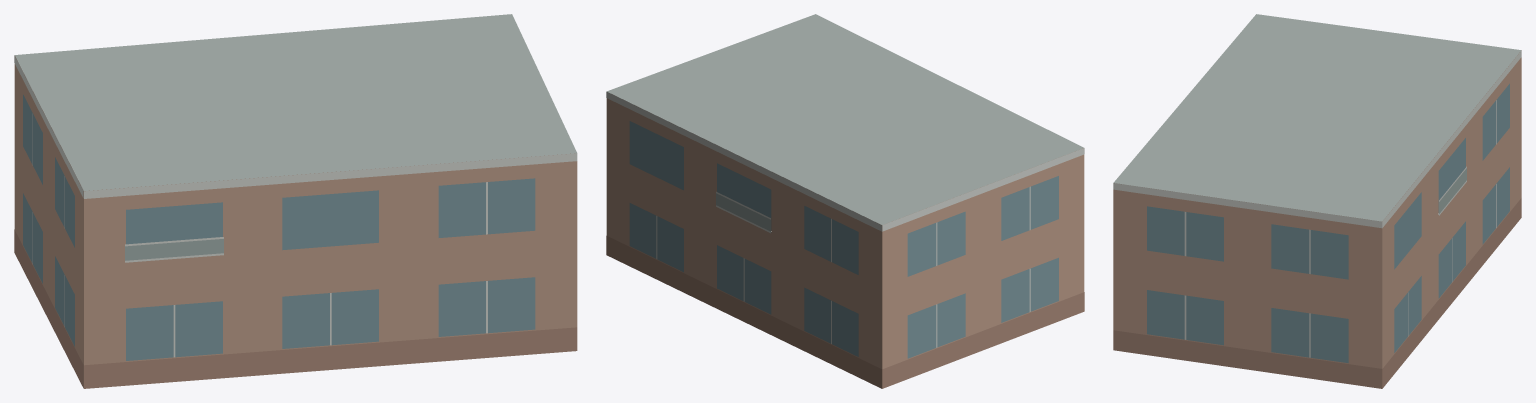
Rendered from survey-upis-32888280.glb.
3 renders of one model, left to right at view 1: azimuth 30°, elevation 25°; view 2: azimuth 150°, elevation 25°; view 3: azimuth 270°, elevation 25°, orthographic. The views are drawn at different scales.
Visible parts, largest first — view 1: survey-upis-32888280.tmp; view 2: survey-upis-32888280.tmp; view 3: survey-upis-32888280.tmp.
Part boxes in pixels (x1=…): survey-upis-32888280.tmp: x1=14, y1=14, x2=577, y2=388; survey-upis-32888280.tmp: x1=606, y1=14, x2=1084, y2=388; survey-upis-32888280.tmp: x1=1113, y1=14, x2=1521, y2=388.
Bounding box in the file's own units: 16.24 × 6.1 × 13.5.
